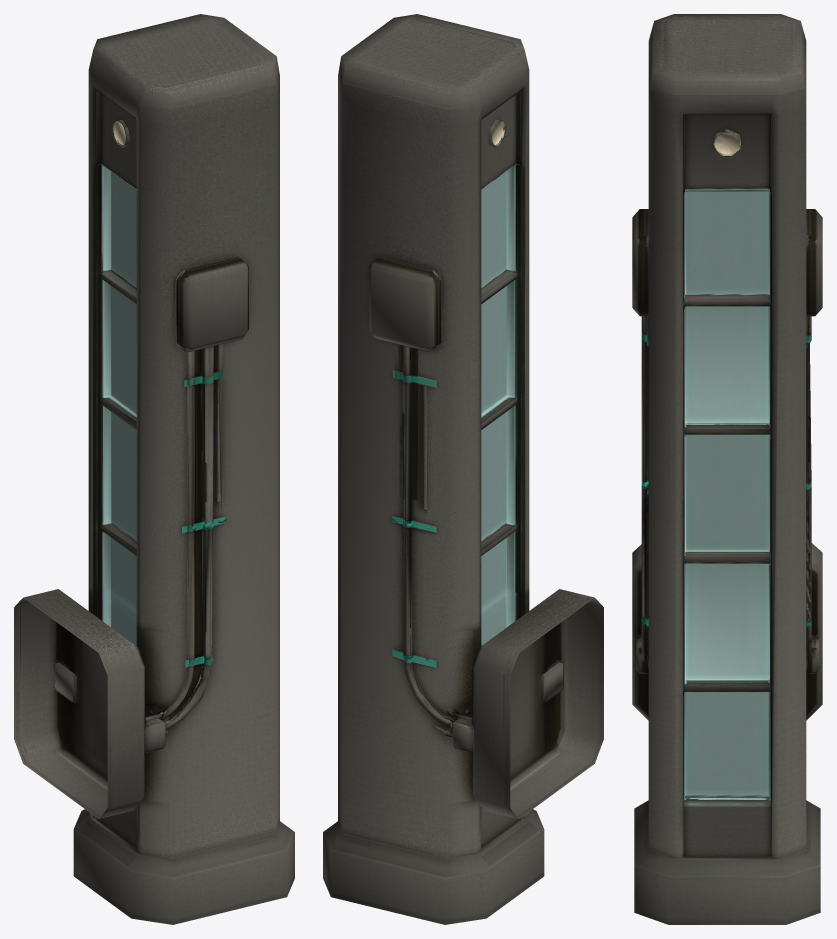
Rendered from tripo_convert_27697f22-6043-4451-9ab7-c8a44ea6fd54.fbx.
3 renders of one model, left to right at view 1: azimuth 30°, elevation 25°; view 2: azimuth 150°, elevation 25°; view 3: azimuth 270°, elevation 25°, orthographic.
Parts seen in each view (by area): view 1: tripo_node_27697f22; view 2: tripo_node_27697f22; view 3: tripo_node_27697f22.
Boxes of the visible parts, x1,y1,x2,y2 form: tripo_node_27697f22: (14, 14, 294, 924); tripo_node_27697f22: (323, 14, 603, 924); tripo_node_27697f22: (632, 14, 822, 924).
Size of the model in its own units: 0.2598 by 0.998 by 0.2051.
1 material, 1 textured.
